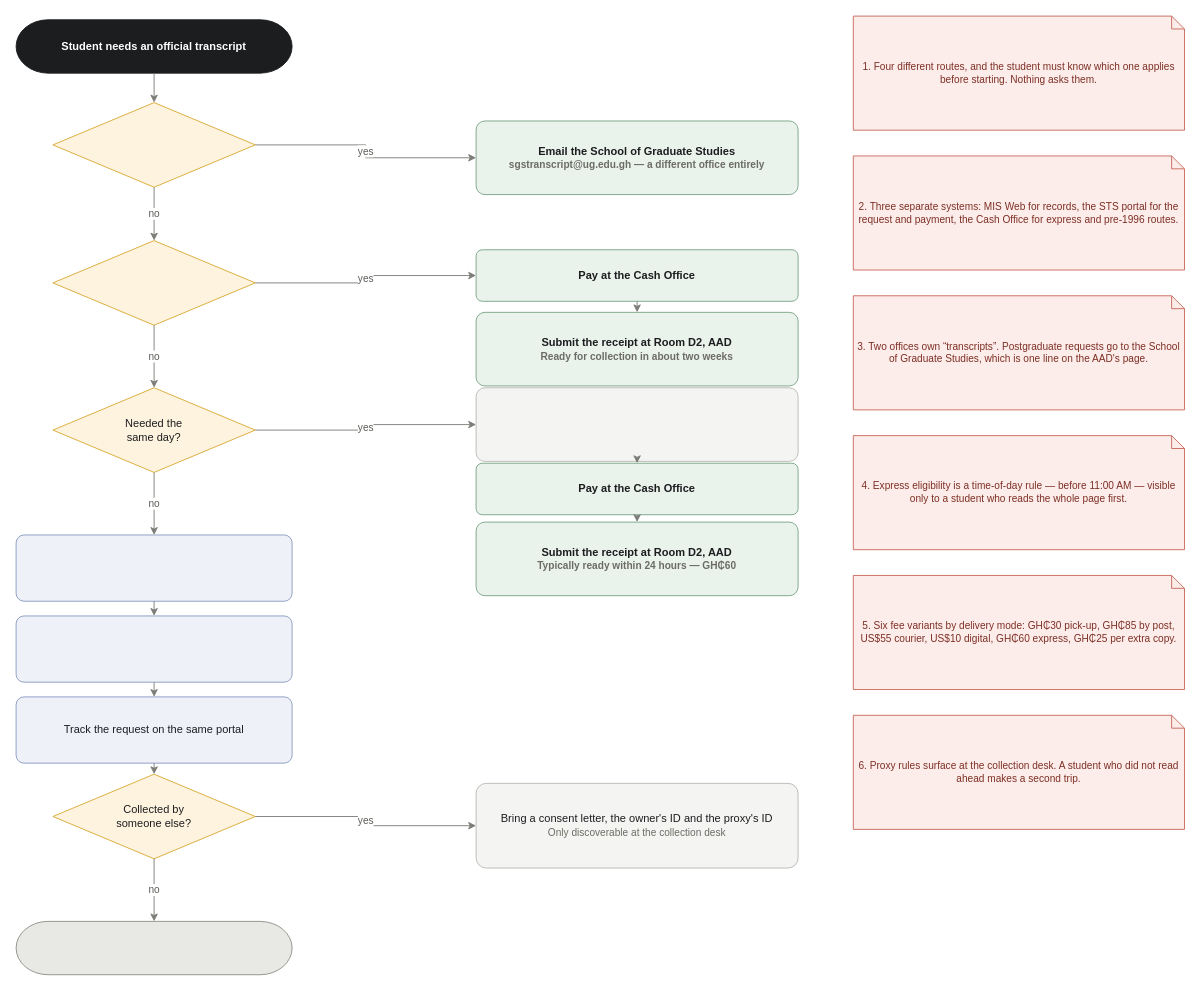
Image size: 1201x991. Some labels were removed from this diagram. The shapes that lost their labels are listed below. From the top down, each one's centre as x and y in pixels, then its label:
At (x=153, y=144): "Postgraduate student?".
At (x=153, y=282): "Graduated before 1996?".
At (x=636, y=424): "Submit the request before 11:00 AM Express is not available on the STS portal".
At (x=153, y=567): "Check your record on the MIS portal mis.ug.edu.gh".
At (x=153, y=648): "Submit the request and pay on the STS portal sts.ug.edu.gh".
At (x=153, y=947): "Transcript issued".
